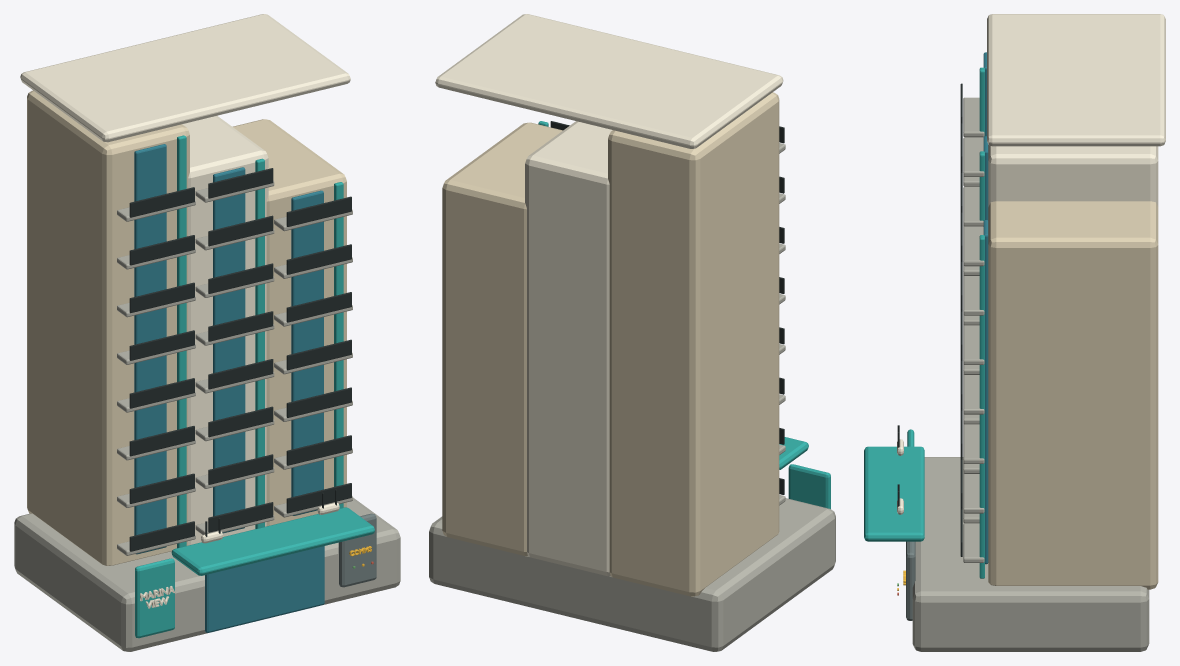
Rendered from condo-marina-v2.glb.
3 views of the same model, side by side, from view 1: azimuth 30°, elevation 25°; view 2: azimuth 150°, elevation 25°; view 3: azimuth 270°, elevation 25° (orthographic). The views are drawn at different scales.
Visible parts, largest first — view 1: DEVI MARINA CONDO CALL KIT · Warm plaster, DEVI MARINA CONDO CALL KIT · Chalk, DEVI MARINA CONDO CALL KIT · Graphic glass, DEVI MARINA CONDO CALL KIT · Concrete, DEVI MARINA CONDO CALL KIT · Ink, DEVI MARINA CONDO CALL KIT · Weathered teal, DEVI MARINA CONDO CALL KIT · Dark metal; view 2: DEVI MARINA CONDO CALL KIT · Warm plaster, DEVI MARINA CONDO CALL KIT · Chalk, DEVI MARINA CONDO CALL KIT · Concrete, DEVI MARINA CONDO CALL KIT · Weathered teal, DEVI MARINA CONDO CALL KIT · Ink; view 3: DEVI MARINA CONDO CALL KIT · Warm plaster, DEVI MARINA CONDO CALL KIT · Chalk, DEVI MARINA CONDO CALL KIT · Concrete, DEVI MARINA CONDO CALL KIT · Weathered teal, DEVI MARINA CONDO CALL KIT · Graphic glass, DEVI MARINA CONDO CALL KIT · Ink, DEVI MARINA CONDO CALL KIT · Dark metal.
Part boxes in pixels (bbox=[...]): DEVI MARINA CONDO CALL KIT · Warm plaster: bbox=[27, 90, 346, 565]; DEVI MARINA CONDO CALL KIT · Chalk: bbox=[20, 14, 350, 608]; DEVI MARINA CONDO CALL KIT · Graphic glass: bbox=[134, 144, 324, 632]; DEVI MARINA CONDO CALL KIT · Concrete: bbox=[14, 181, 400, 651]; DEVI MARINA CONDO CALL KIT · Ink: bbox=[129, 168, 351, 551]; DEVI MARINA CONDO CALL KIT · Weathered teal: bbox=[135, 135, 374, 638]; DEVI MARINA CONDO CALL KIT · Dark metal: bbox=[338, 513, 376, 587]; DEVI MARINA CONDO CALL KIT · Warm plaster: bbox=[442, 92, 779, 596]; DEVI MARINA CONDO CALL KIT · Chalk: bbox=[435, 14, 783, 576]; DEVI MARINA CONDO CALL KIT · Concrete: bbox=[429, 143, 835, 651]; DEVI MARINA CONDO CALL KIT · Weathered teal: bbox=[538, 121, 830, 508]; DEVI MARINA CONDO CALL KIT · Ink: bbox=[550, 121, 784, 494]; DEVI MARINA CONDO CALL KIT · Warm plaster: bbox=[988, 201, 1158, 589]; DEVI MARINA CONDO CALL KIT · Chalk: bbox=[897, 14, 1165, 514]; DEVI MARINA CONDO CALL KIT · Concrete: bbox=[912, 97, 1149, 651]; DEVI MARINA CONDO CALL KIT · Weathered teal: bbox=[864, 67, 984, 578]; DEVI MARINA CONDO CALL KIT · Graphic glass: bbox=[983, 52, 988, 564]; DEVI MARINA CONDO CALL KIT · Ink: bbox=[897, 83, 962, 556]; DEVI MARINA CONDO CALL KIT · Dark metal: bbox=[906, 541, 915, 620].
Bounding box in the file's own units: 5.5 × 9.28 × 4.97.
